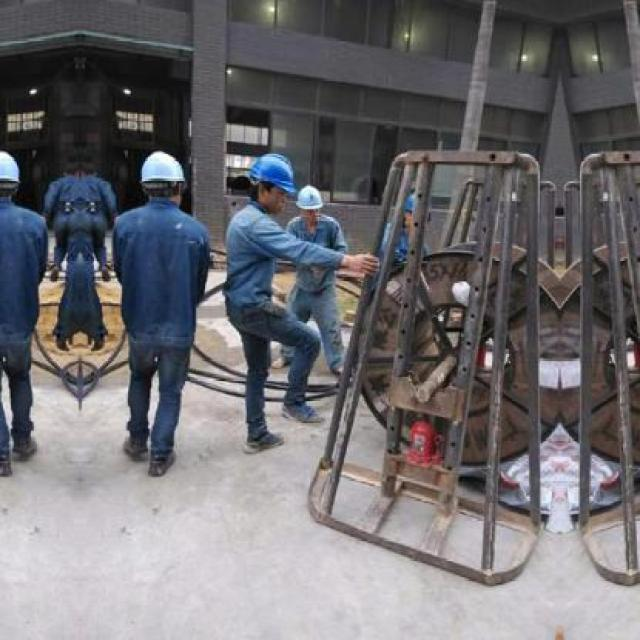helmet: (244, 148, 297, 212), (134, 151, 188, 206), (0, 150, 26, 208), (294, 182, 322, 224)
